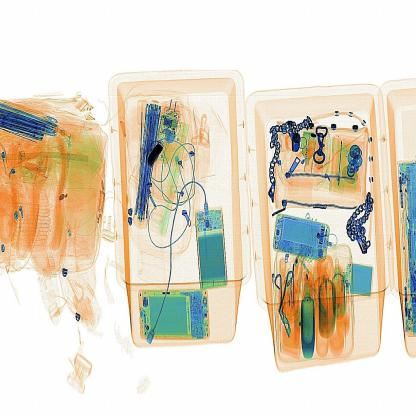scissors: (146, 134, 172, 176)
